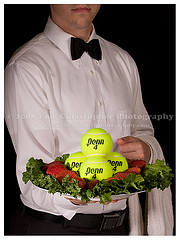tennis ball: (80, 125, 115, 159), (79, 154, 115, 185), (63, 151, 94, 179), (100, 150, 130, 175)
